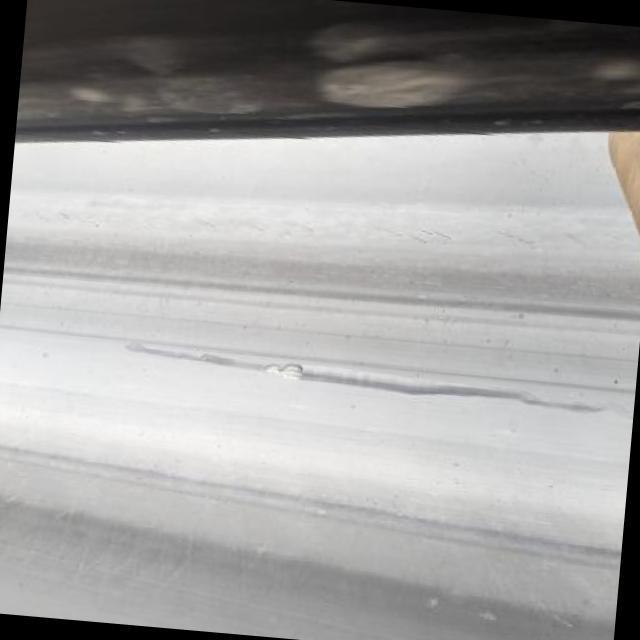Impact Damage: (260, 360, 309, 386)
